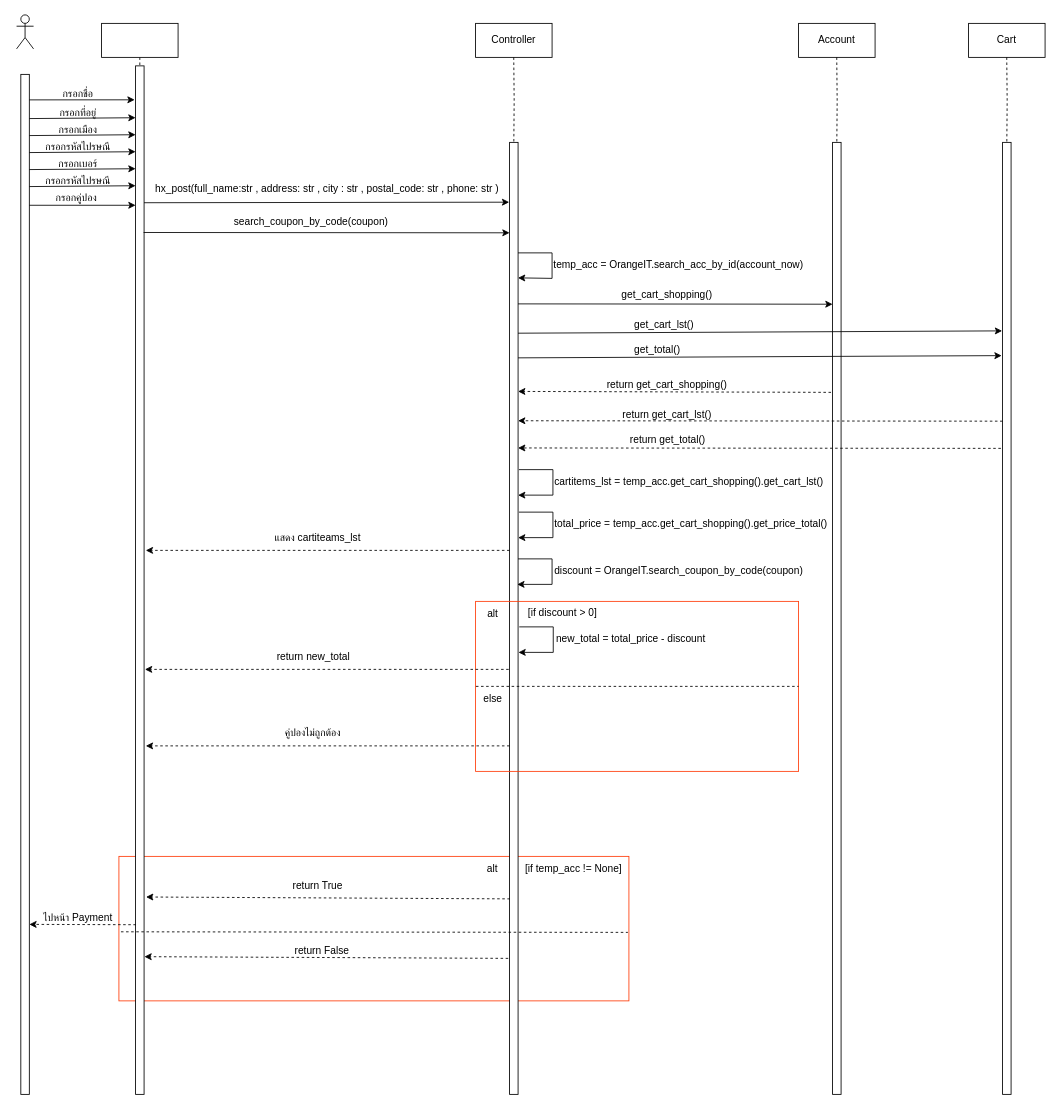
Image size: 1060x1109. Some labels were removed from this diagram. The centre of each missing label's shape, as x and y in pixels:
"UI" belongs at (139,40).
"User" belongs at (25,31).
